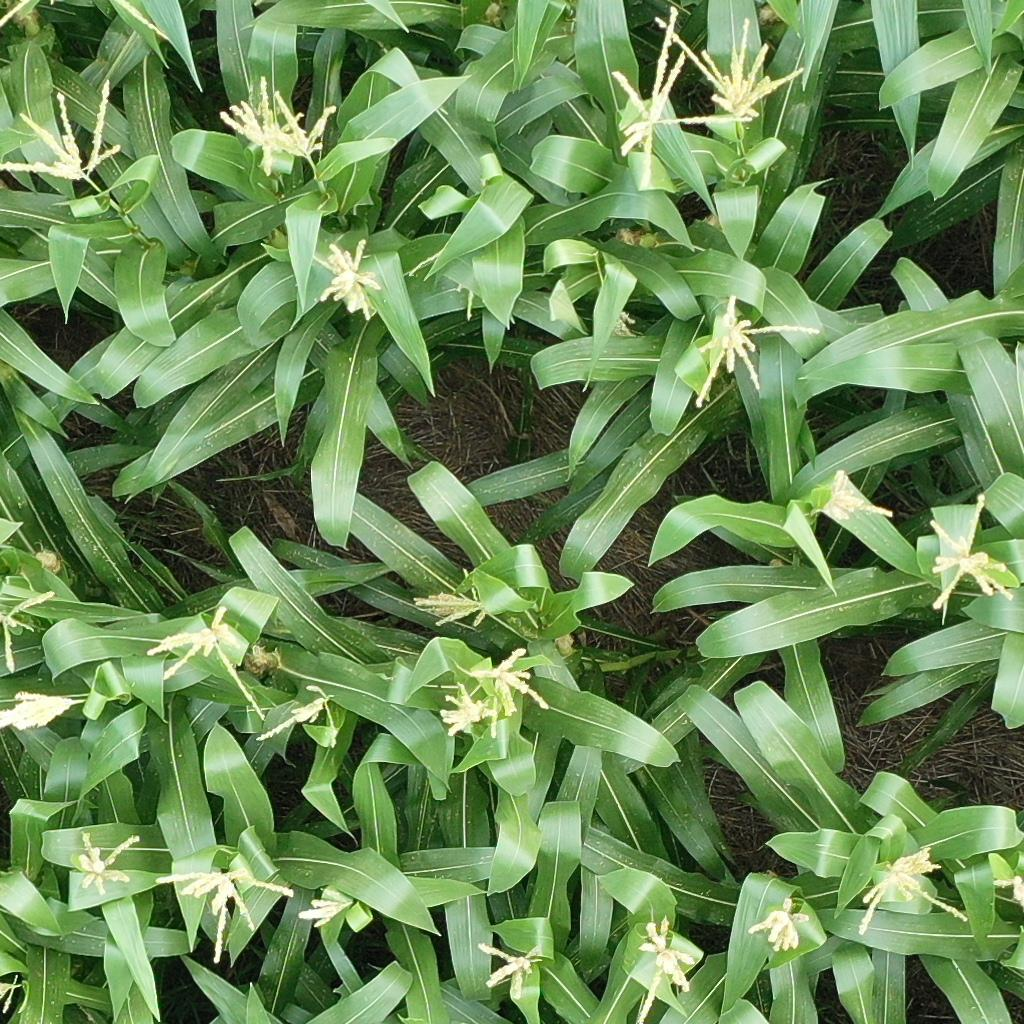Tassel: (610, 4, 750, 189), (689, 295, 825, 412), (656, 16, 808, 116), (147, 604, 266, 725), (154, 866, 296, 962), (1, 78, 123, 182), (853, 843, 970, 936), (930, 490, 1015, 610), (217, 73, 305, 177), (470, 647, 549, 737), (634, 916, 695, 1024), (256, 684, 342, 749), (317, 237, 384, 320), (257, 91, 336, 158), (75, 828, 142, 897), (1, 590, 55, 675), (746, 894, 815, 956), (476, 942, 547, 1000), (817, 472, 897, 523), (412, 581, 487, 630), (1, 691, 91, 731), (438, 679, 499, 735), (299, 888, 355, 932), (988, 874, 1024, 904), (1, 973, 21, 1015), (612, 310, 639, 337)
